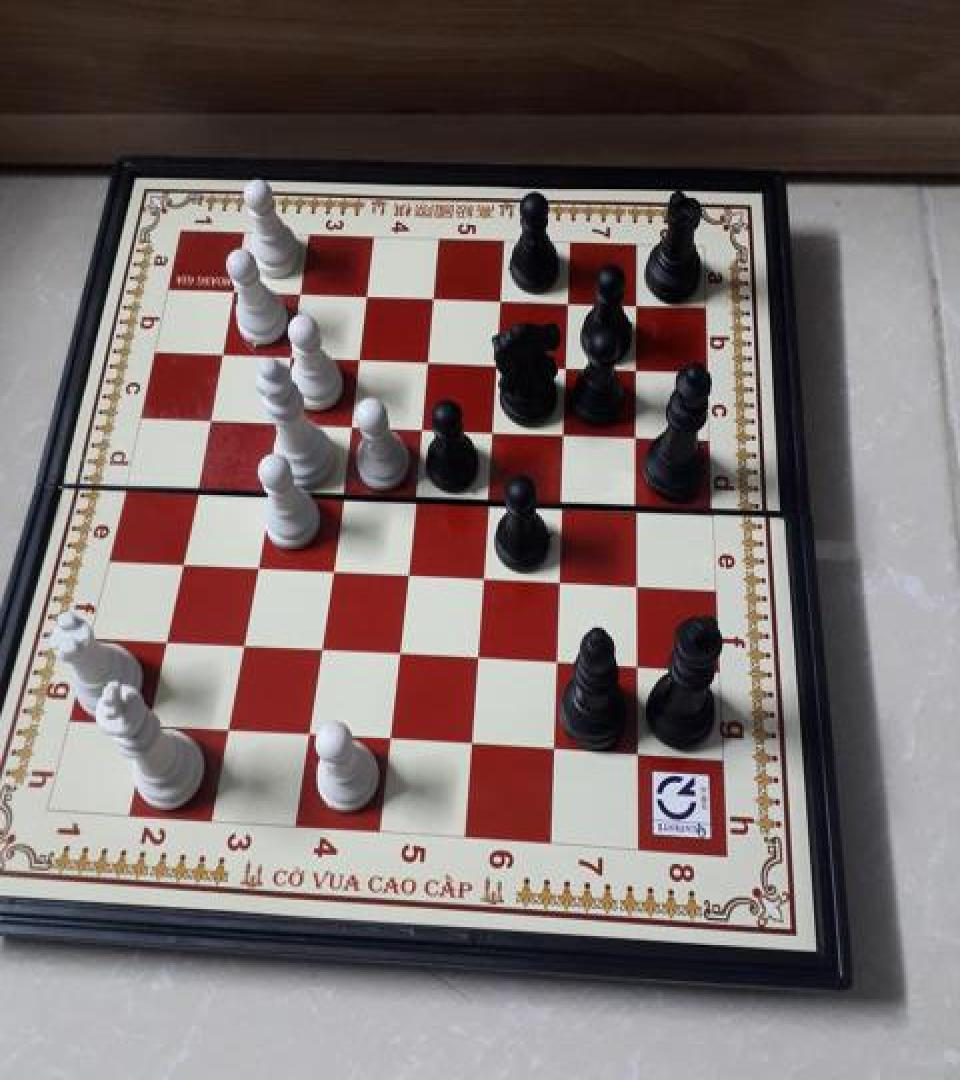xcorner: (626, 291, 654, 323), (557, 288, 585, 320), (420, 282, 448, 314), (353, 280, 381, 312), (626, 354, 654, 386), (554, 351, 582, 383), (414, 345, 442, 377), (345, 342, 373, 374), (208, 336, 236, 368), (552, 418, 580, 450), (480, 415, 508, 447), (336, 408, 364, 440), (265, 405, 293, 437), (550, 489, 578, 521), (475, 486, 503, 518), (327, 478, 355, 510), (181, 471, 209, 503), (626, 570, 654, 602), (470, 561, 498, 593), (317, 553, 345, 585), (242, 549, 270, 581), (167, 544, 195, 576), (626, 651, 654, 683), (465, 642, 493, 674), (307, 632, 335, 664), (152, 623, 180, 655), (626, 739, 654, 771), (459, 729, 487, 761), (377, 723, 405, 755), (215, 713, 243, 745), (488, 286, 516, 317), (286, 278, 314, 309), (220, 276, 248, 307), (484, 349, 512, 380), (276, 340, 304, 371), (626, 422, 654, 453), (408, 412, 436, 443), (195, 402, 223, 433), (626, 494, 654, 525), (401, 483, 429, 514), (254, 475, 282, 506), (547, 566, 575, 597), (393, 557, 421, 588), (545, 647, 573, 678), (385, 638, 413, 669), (229, 628, 257, 659), (542, 735, 570, 766), (296, 718, 324, 749), (135, 708, 163, 739)
